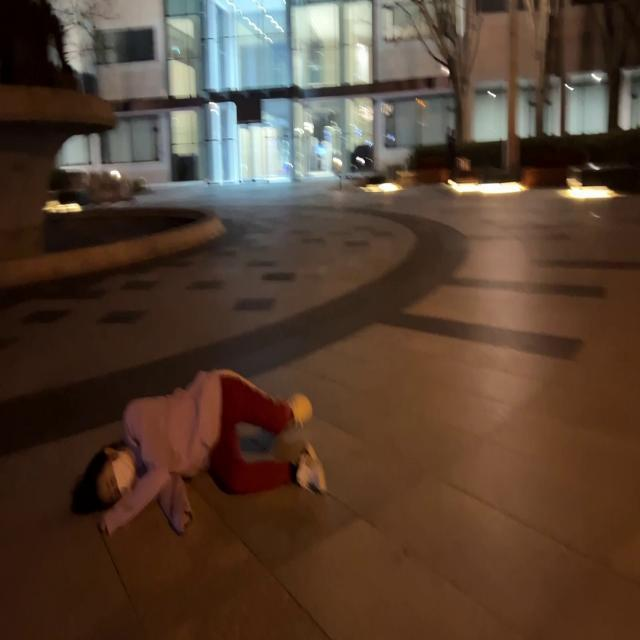Fall: (72, 371, 325, 536)
